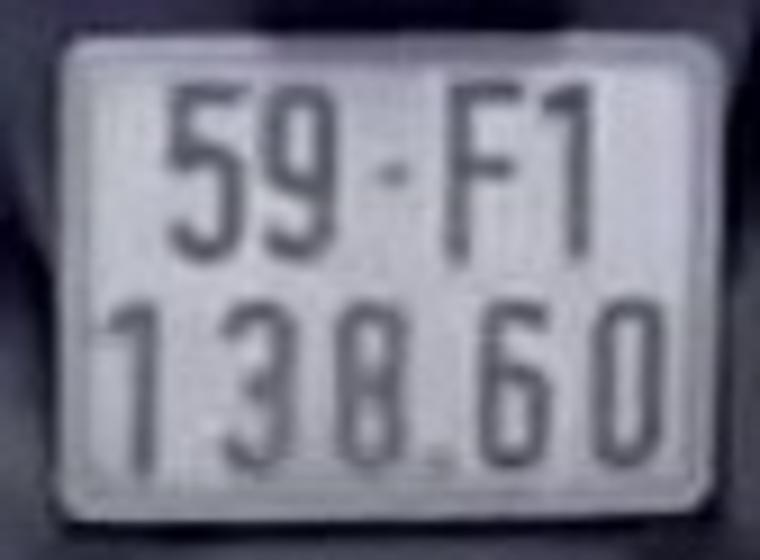-: (372, 149, 418, 189)
.: (426, 434, 462, 487)
0: (586, 281, 670, 472)
1: (117, 298, 168, 479), (552, 71, 598, 271)
3: (214, 296, 292, 475)
5: (161, 69, 248, 273)
6: (477, 291, 569, 473)
8: (337, 288, 416, 468)
9: (258, 87, 342, 266)
F: (436, 64, 526, 271)
